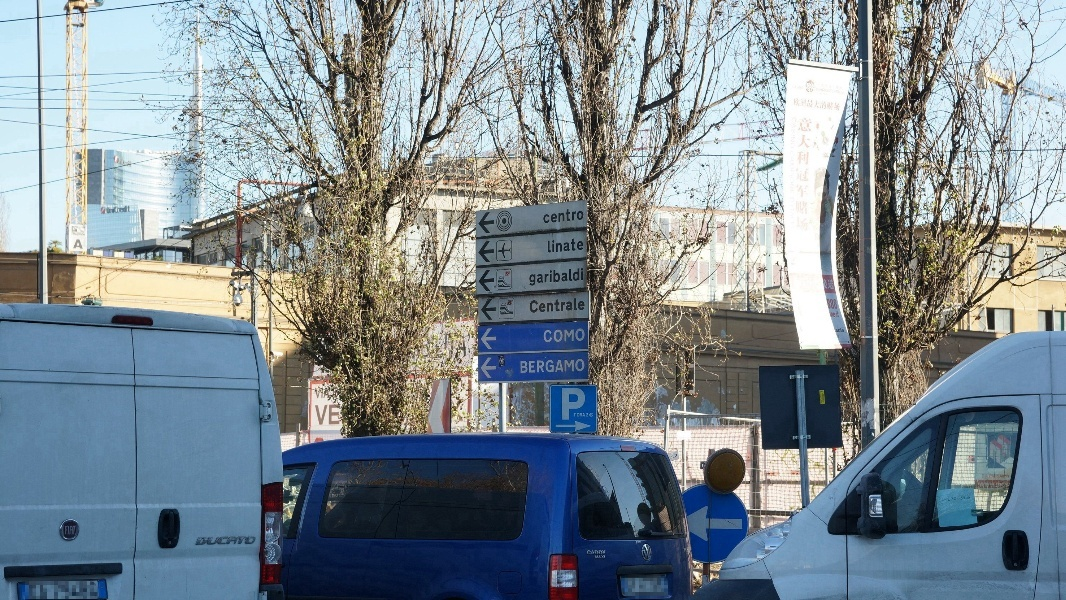text: (801, 115, 814, 235), (791, 115, 800, 235), (801, 274, 816, 340), (817, 274, 832, 340), (833, 274, 847, 340), (790, 274, 800, 340), (577, 388, 592, 421), (801, 80, 816, 113), (817, 80, 832, 113), (562, 388, 576, 421), (833, 80, 847, 113), (321, 405, 336, 428), (977, 473, 992, 492), (993, 473, 1008, 492), (545, 206, 560, 224), (561, 206, 576, 224), (545, 268, 560, 286), (561, 268, 576, 286), (561, 237, 576, 253), (529, 297, 544, 313), (545, 297, 560, 313), (561, 297, 576, 313), (545, 328, 560, 344), (561, 328, 576, 344), (531, 268, 544, 286), (529, 359, 544, 373), (545, 359, 560, 373), (561, 359, 576, 373), (547, 237, 560, 253), (794, 80, 800, 113), (113, 206, 128, 217), (98, 206, 112, 217), (577, 206, 585, 224), (577, 359, 587, 373), (209, 537, 224, 546), (225, 537, 240, 546), (241, 537, 256, 546), (593, 388, 597, 421), (577, 237, 585, 253), (577, 297, 585, 313), (577, 328, 585, 344), (577, 268, 584, 286), (1009, 473, 1015, 492), (521, 359, 528, 373), (316, 405, 320, 428), (337, 405, 341, 428), (198, 537, 208, 546), (321, 388, 329, 399), (972, 473, 976, 492), (593, 550, 606, 555), (72, 225, 80, 233), (129, 206, 134, 217), (595, 555, 608, 559), (663, 584, 672, 589), (316, 388, 320, 399), (577, 413, 586, 417), (77, 239, 80, 249), (81, 239, 84, 249), (587, 550, 592, 555), (586, 413, 592, 417), (543, 328, 544, 344), (589, 413, 592, 417), (574, 413, 576, 417)
